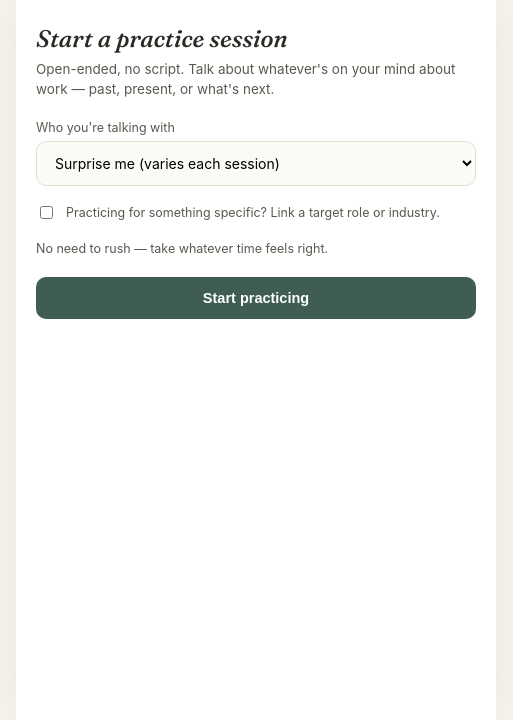
Scenario: ConversationPage mic control › renders the mic control when SpeechRecognition is available, and typed submission still works
expect the button "Start practicing" is shown: met, box top-left (36, 277), bottom-right (476, 319)
Submit the form named "start practicing", box top-left (36, 120), bottom-right (476, 319)
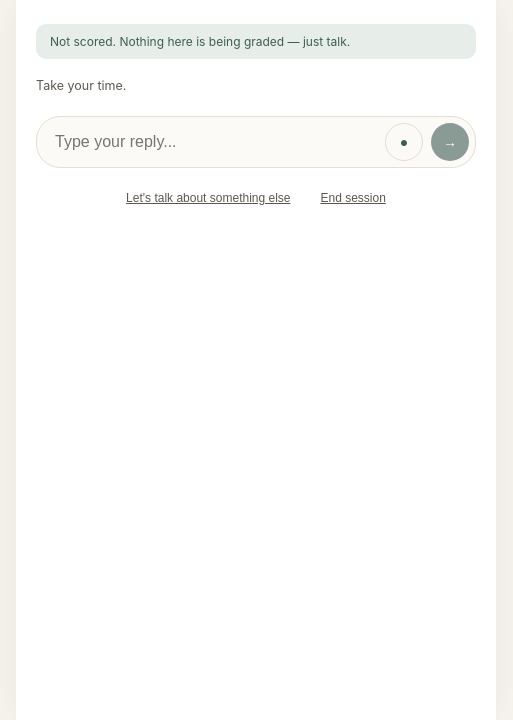
expect the field with placeholder "Type your reply..." is shown: met
expect the button named "speak your reply" is shown: met, box top-left (385, 123), bottom-right (423, 161)
In the field with placeholder "Type your reply...": point(215, 142) top-left (53, 132), bottom-right (377, 152), type "a typed reply"
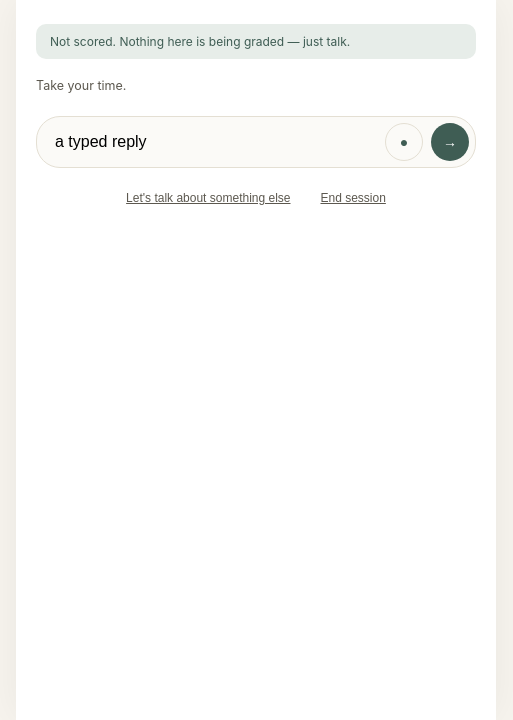
Submit the form with placeholder "Type your reply...", box top-left (36, 116), bottom-right (476, 168)
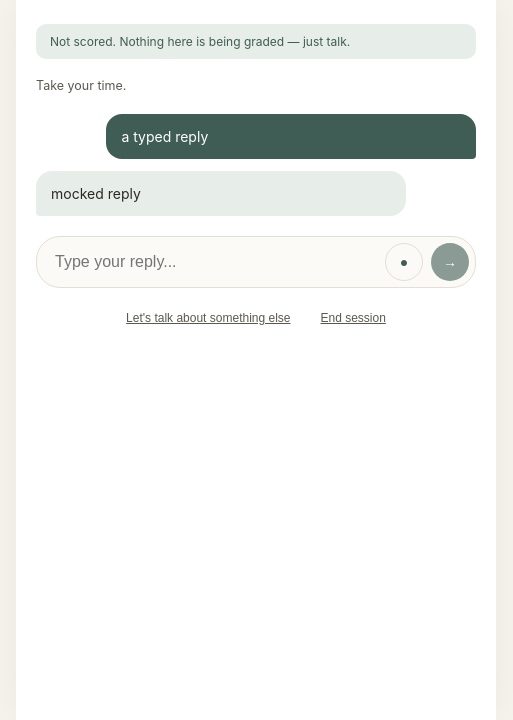
expect the text "mocked reply" is shown: met, box top-left (36, 171), bottom-right (406, 216)
